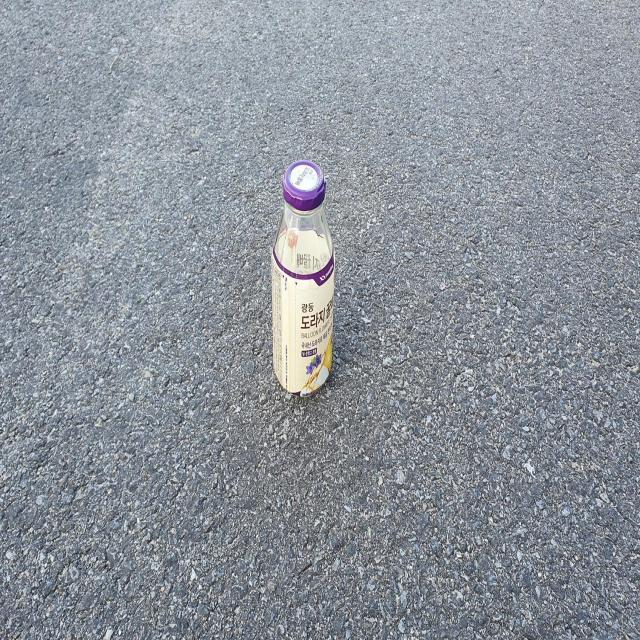glass: (271, 159, 334, 396)
